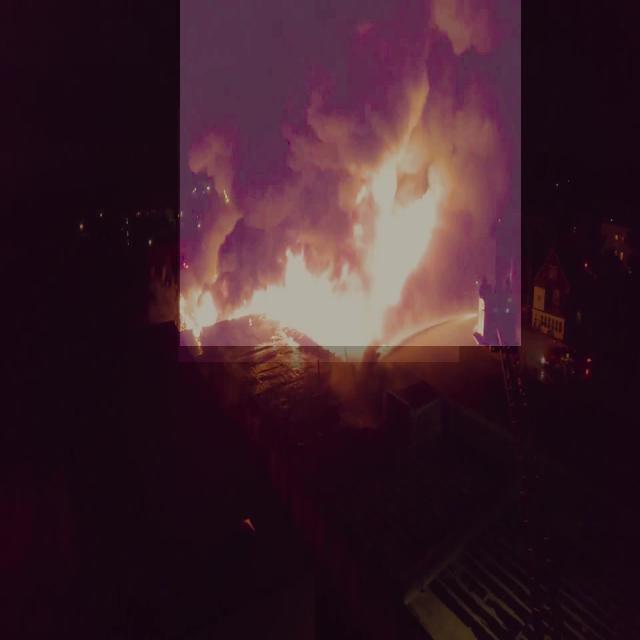Fire: (178, 108, 459, 362)
Smoke: (180, 0, 521, 346)
